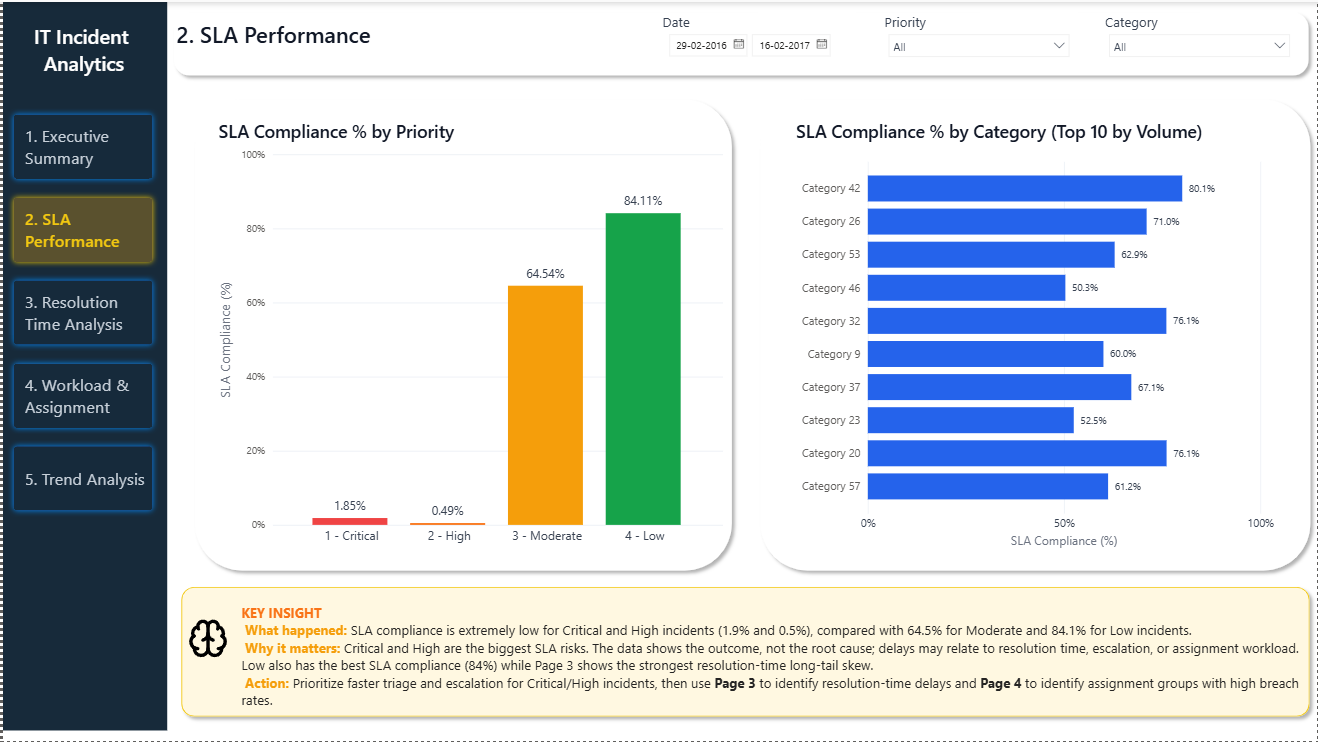

What the dashboard file says about the page in this screenshot:
{"tool":"powerbi","page":{"name":"2. SLA Performance","canvas":[1600,900],"ordinal":1},"visuals":[{"type":"group","id":"g1","title":"Group 6","box":[0,-12,1600,900],"z":0},{"type":"shape","box":[0,-12,200,900],"z":0,"group":"g4"},{"type":"group","id":"g2","title":"Group 2","box":[200,5,1400,95],"z":0,"group":"g1"},{"type":"shape","box":[200,5,1400,95],"z":0,"group":"g2"},{"type":"group","id":"g3","title":"Group 1","box":[224,110,672,592],"z":0,"group":"g5"},{"type":"shape","box":[224,110,672,592],"z":0,"group":"g3"},{"type":"shape","box":[912,110,688,592],"z":0,"group":"g6"},{"type":"textbox","box":[290,733.3,1300,130],"z":0,"group":"g8"},{"type":"group","id":"g4","title":"Group 4","box":[0,-12,200,900],"z":1000,"group":"g1"},{"type":"slicer","title":"Date","fields":{"Values":["incidents.opened_at"]},"box":[800,14,240,65],"z":1000,"group":"g2"},{"type":"textbox","box":[18,20,154,76],"z":1000,"group":"g4"},{"type":"group","id":"g5","title":"Group 5","box":[224,110,1376,592],"z":1000},{"type":"group","id":"g6","title":"Group 3","box":[912,110,688,592],"z":1000,"group":"g5"},{"type":"columnChart","title":"SLA Compliance % by Priority","fields":{"Category":["incidents.priority"],"Y":["_Measures.Overall SLA Compliance %"]},"box":[256,142,624,528],"z":1000,"group":"g3"},{"type":"clusteredBarChart","title":"SLA Compliance % by Category (Top 10 by Volume)","fields":{"Category":["incidents.category"],"Y":["_Measures.Overall SLA Compliance %"]},"box":[960,142,592,528],"z":1000,"group":"g6"},{"type":"image","box":[224,739.2,50,73.3],"z":1000,"group":"g8"},{"type":"group","id":"g7","title":"Group 1","box":[208,704,1392,176],"z":1001},{"type":"slicer","title":"Priority","fields":{"Values":["incidents.priority"]},"box":[1069.5,14,240,65],"z":2000,"group":"g2"},{"type":"pageNavigator","box":[6,130,184,500],"z":2000,"group":"g4"},{"type":"slicer","title":"Category","fields":{"Values":["incidents.category"]},"box":[1339,14,240,65],"z":3000,"group":"g2"},{"type":"textbox","box":[208,18,290,48],"z":4000,"group":"g2"},{"type":"shape","box":[208,704,1392,176],"z":8000,"group":"g7"},{"type":"group","id":"g8","title":"Group 3","box":[224,733.3,1366,130],"z":13000,"group":"g7"}]}

Visuals, with their boxes on the page's 1600x900 design canvas (x1, y1, x2, y2). These are canvas units, not pixel positions in the 1318x742 screenshot, which may show the page scaled, cropped or inside an application window:
"Group 6" group: left=0, top=-12, right=1600, bottom=888
shape: left=0, top=-12, right=200, bottom=888
"Group 2" group: left=200, top=5, right=1600, bottom=100
shape: left=200, top=5, right=1600, bottom=100
"Group 1" group: left=224, top=110, right=896, bottom=702
shape: left=224, top=110, right=896, bottom=702
shape: left=912, top=110, right=1600, bottom=702
textbox: left=290, top=733, right=1590, bottom=863
"Group 4" group: left=0, top=-12, right=200, bottom=888
"Date" slicer: left=800, top=14, right=1040, bottom=79
textbox: left=18, top=20, right=172, bottom=96
"Group 5" group: left=224, top=110, right=1600, bottom=702
"Group 3" group: left=912, top=110, right=1600, bottom=702
"SLA Compliance % by Priority" columnChart: left=256, top=142, right=880, bottom=670
"SLA Compliance % by Category (Top 10 by Volume)" clusteredBarChart: left=960, top=142, right=1552, bottom=670
image: left=224, top=739, right=274, bottom=812
"Group 1" group: left=208, top=704, right=1600, bottom=880
"Priority" slicer: left=1070, top=14, right=1310, bottom=79
pageNavigator: left=6, top=130, right=190, bottom=630
"Category" slicer: left=1339, top=14, right=1579, bottom=79
textbox: left=208, top=18, right=498, bottom=66
shape: left=208, top=704, right=1600, bottom=880
"Group 3" group: left=224, top=733, right=1590, bottom=863
